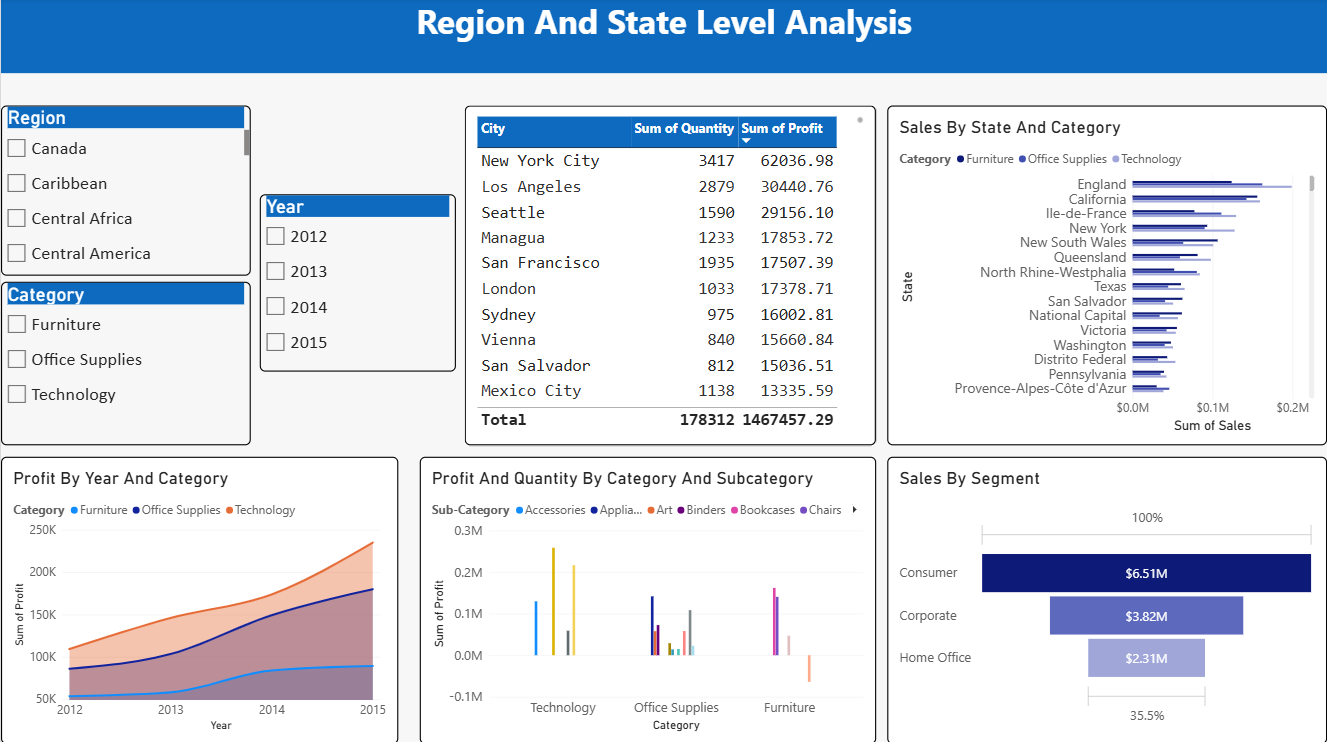

Layout of this report page (visuals, bound fields, positions):
{"tool":"powerbi","page":{"name":"Region And State ","canvas":[1920,1080],"ordinal":1},"visuals":[{"type":"textbox","box":[0,0,1920,108.5],"z":0},{"type":"slicer","fields":{"Values":["Orders.Region"]},"box":[0,155.6,361.9,246.1],"z":1},{"type":"slicer","fields":{"Values":["Orders.Year"]},"box":[374.6,284.1,284.1,257],"z":2},{"type":"tableEx","fields":{"Values":["Orders.City","Sum(Orders.Quantity)","Sum(Orders.Profit)"]},"box":[671.4,155.6,595.4,492.2],"z":4},{"type":"clusteredBarChart","title":"Sales By State And Category","fields":{"Category":["Orders.State"],"Series":["Orders.Category"],"Y":["Sum(Orders.Sales)"]},"box":[1283,155.6,637,492.2],"z":5},{"type":"areaChart","title":"Profit By Year And Category","fields":{"Category":["Orders.Year"],"Series":["Orders.Category"],"Y":["Sum(Orders.Profit)"]},"box":[0,664.1,575.5,416.2],"z":6},{"type":"lineClusteredColumnComboChart","title":"Profit And Quantity By Category And Subcategory","fields":{"Category":["Orders.Category"],"Series":["Orders.Sub-Category"],"Y":["Sum(Orders.Profit)"]},"box":[606.2,664.1,660.5,416.2],"z":7},{"type":"slicer","fields":{"Values":["Orders.Category"]},"box":[0,410.8,361.9,237.1],"z":8},{"type":"funnel","title":"Sales By Segment","fields":{"Category":["Orders.Segment"],"Y":["Sum(Orders.Sales)"]},"box":[1283,664,637,416],"z":9}]}

Visuals, with their boxes in screenshot pixels (x1, y1, x2, y2), scaled from the page's 1920x1080 canvas onto the 1327x742 screenshot:
textbox: 0:0:1326:75
slicer - Orders.Region: 0:107:250:276
slicer - Orders.Year: 259:195:455:372
tableEx - Orders.City x Sum(Orders.Quantity): 464:107:876:445
"Sales By State And Category" clusteredBarChart: 887:107:1326:445
"Profit By Year And Category" areaChart: 0:456:398:741
"Profit And Quantity By Category And Subcategory" lineClusteredColumnComboChart: 419:456:875:741
slicer - Orders.Category: 0:282:250:445
"Sales By Segment" funnel: 887:456:1326:741
